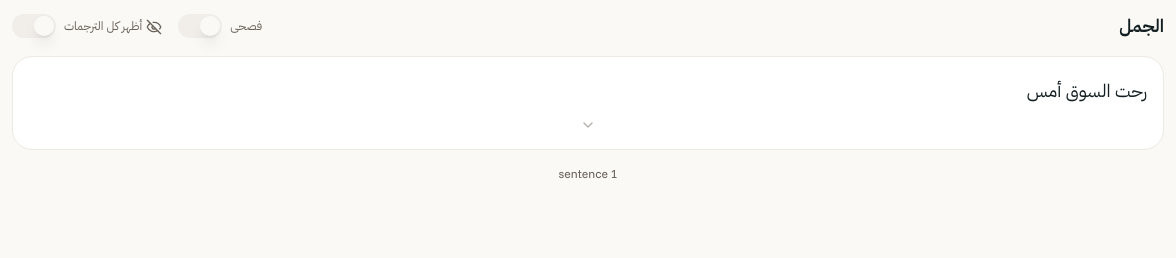
Test: the Fusha line › shows the stored rendering next to the dialect line
Click the switch named "أظهر السطر بالفصحى". click: (200, 26)
box: [178,14,222,38]
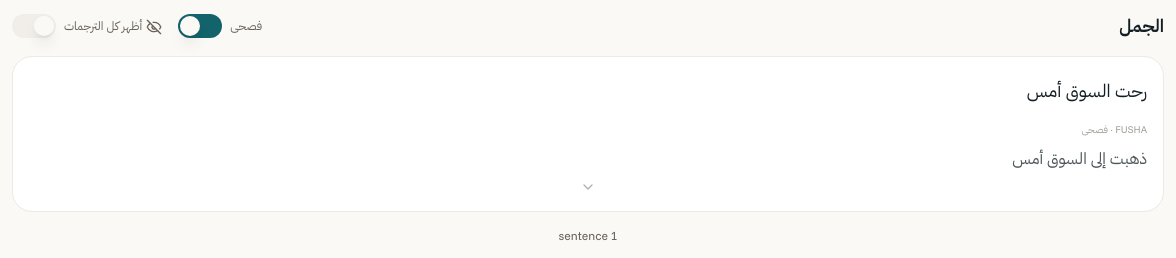
Expected: the text "ذهبت إلى السوق أمس" is shown, [1012,148,1147,168]
